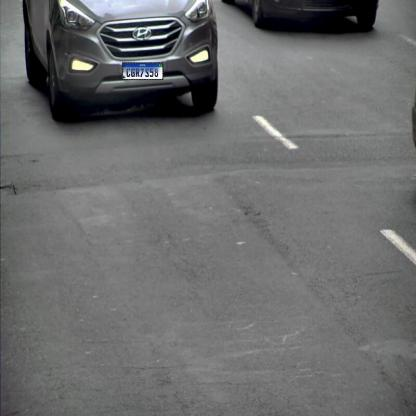PlacaM: (122, 62, 163, 80)
